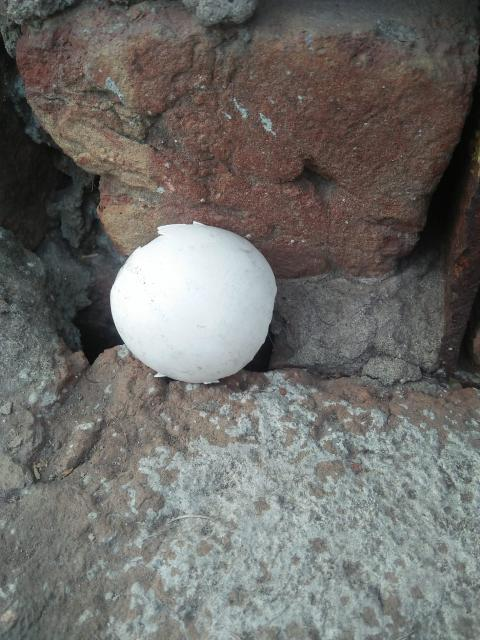Roto: (109, 220, 278, 384)
